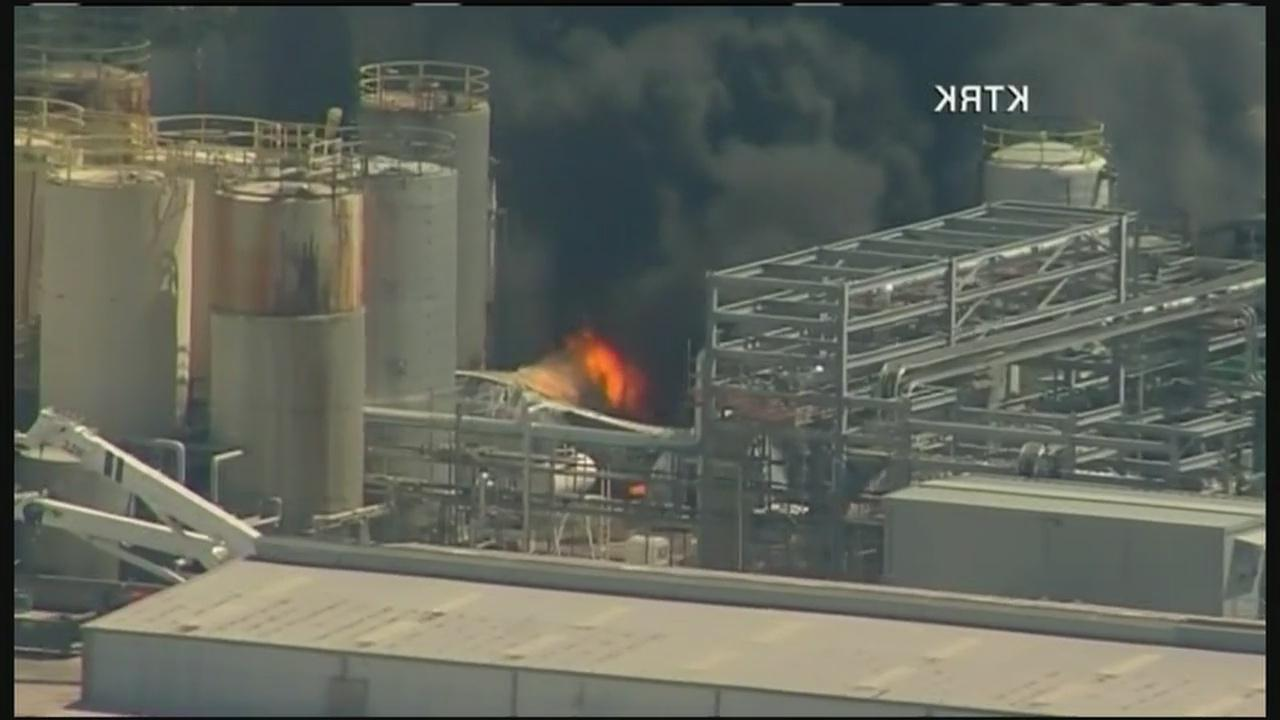fire: (570, 317, 649, 414)
